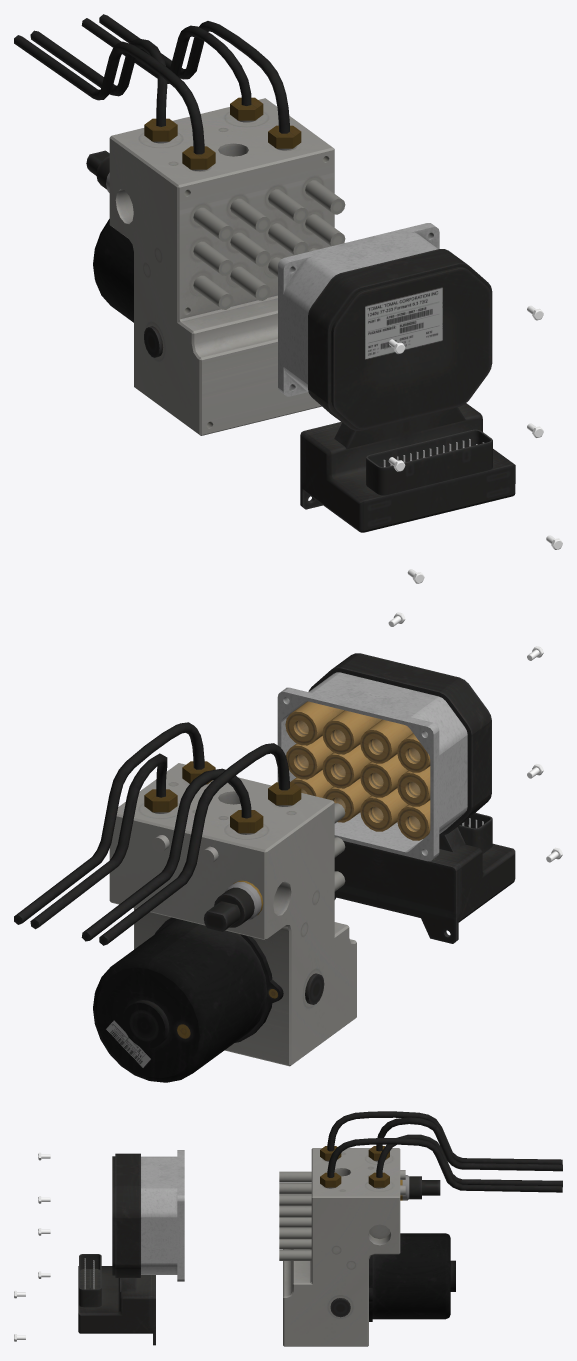
The model's file is abs.glb.
3 renders of one model, top to bottom at view 1: azimuth 30°, elevation 25°; view 2: azimuth 150°, elevation 25°; view 3: azimuth 270°, elevation 25°, orthographic. The views are drawn at different scales.
Visible parts, largest first — view 1: absPompa_1(0), absModul_1(0); view 2: absPompa_1(0), absModul_1(0); view 3: absPompa_1(0), absModul_1(0).
Part boxes in pixels (<box>): absPompa_1(0): <box>14,14,345,435</box>; absModul_1(0): <box>278,223,515,532</box>; absPompa_1(0): <box>14,722,356,1082</box>; absModul_1(0): <box>277,653,515,943</box>; absPompa_1(0): <box>279,1111,562,1346</box>; absModul_1(0): <box>78,1150,184,1345</box>.
Size of the model in its own units: 0.00255 by 0.00456 by 0.0115.
Materials: 3 (2 with a texture image).
